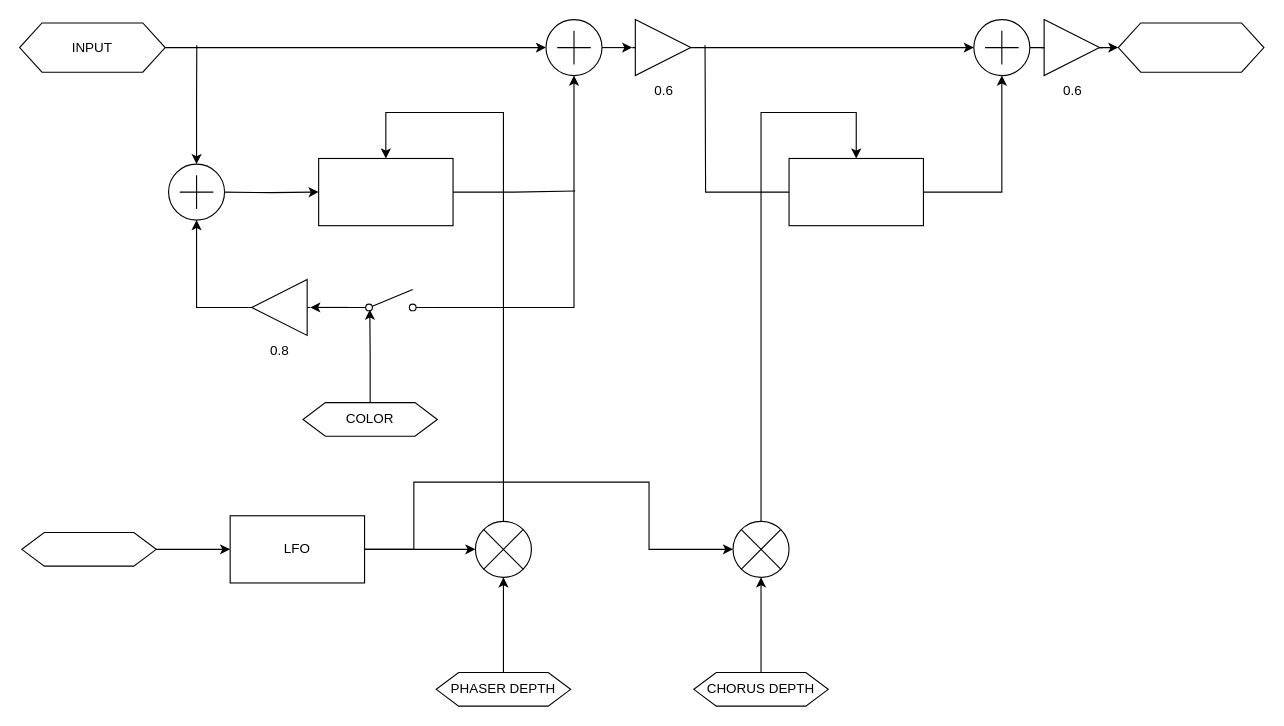
The diagram is 1284 pixels wide and 726 high, and some of its shapes have lost their labels. Each missing label, with the box of its shape:
ALL PASS FILTERS CHAIN: (318, 157, 453, 226)
DELAY: (788, 157, 923, 226)
OUTPUT: (1117, 22, 1264, 72)
RATE: (21, 531, 156, 566)
